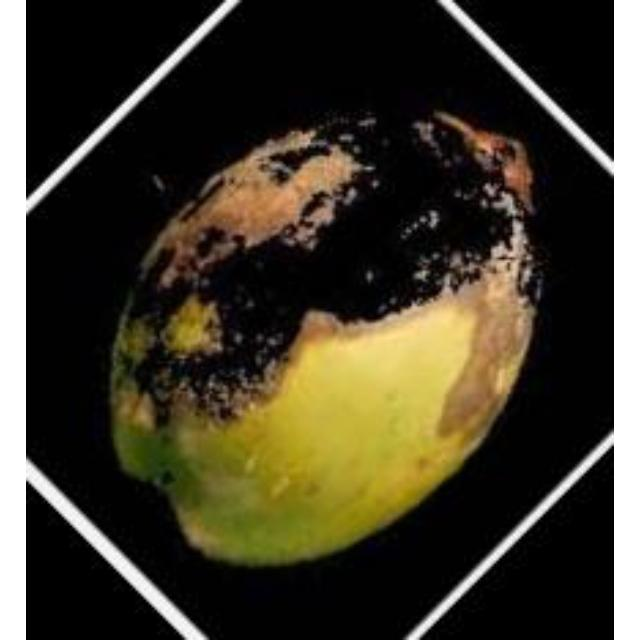damaged: (105, 85, 554, 574)
